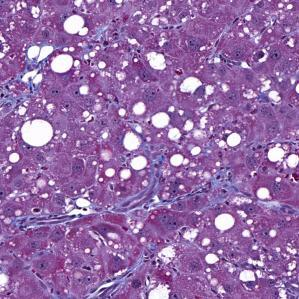fibrosis: (142, 164, 238, 210)
